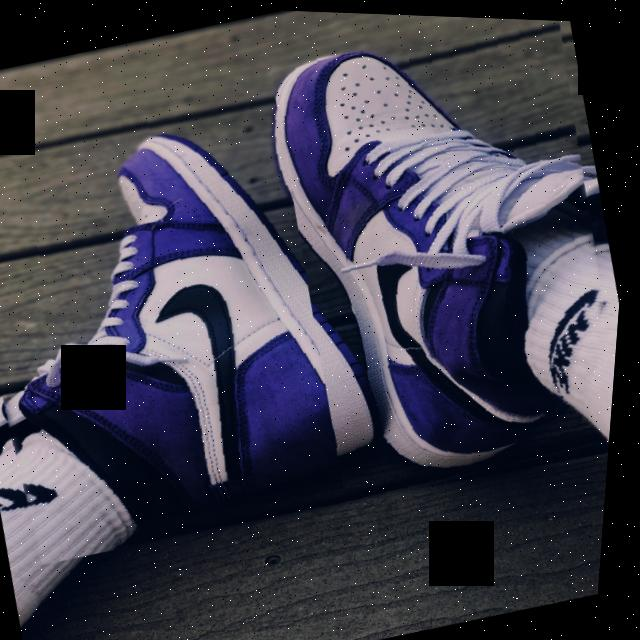shoe: (224, 7, 640, 514), (0, 48, 378, 579)
